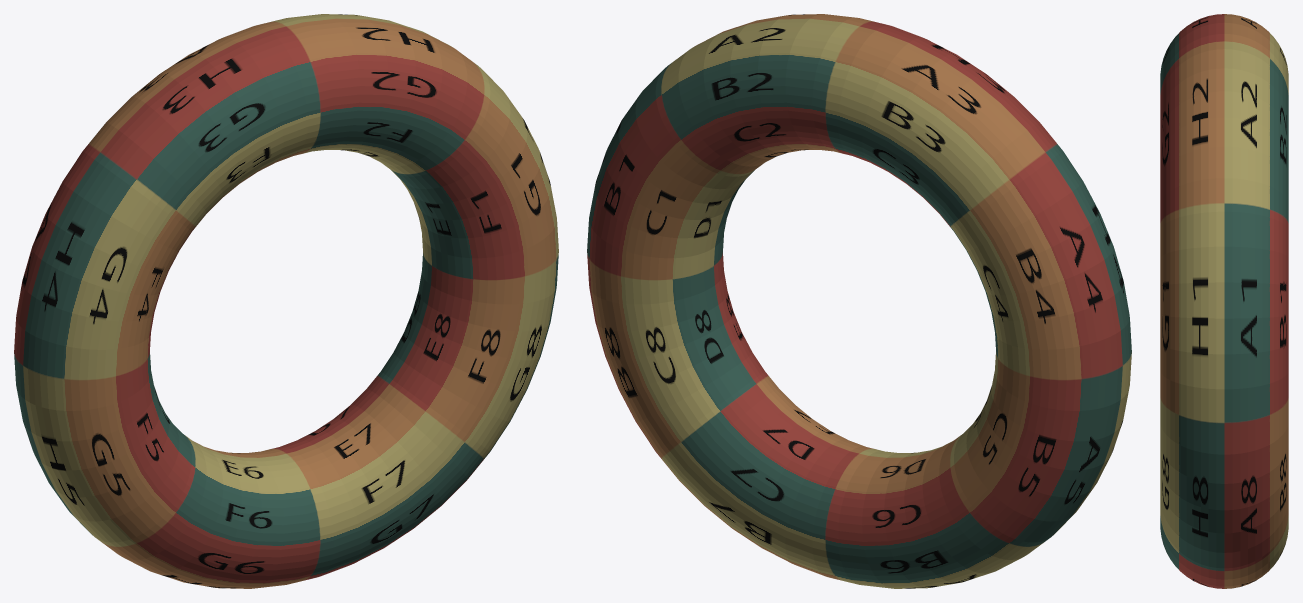
Rendered from texture_torus_R26_r22.glb.
3 views of the same model, side by side, from view 1: azimuth 30°, elevation 25°; view 2: azimuth 150°, elevation 25°; view 3: azimuth 270°, elevation 25° (orthographic). The views are drawn at different scales.
Visible parts, largest first — view 1: world; view 2: world; view 3: world.
Part boxes in pixels (box(x1,y1,x2,y2)): world: box(14, 14, 558, 588); world: box(587, 14, 1131, 588); world: box(1160, 14, 1288, 588).
Size of the model in its own units: 35.2 by 35.13 by 7.85.
1 material, 1 textured.
